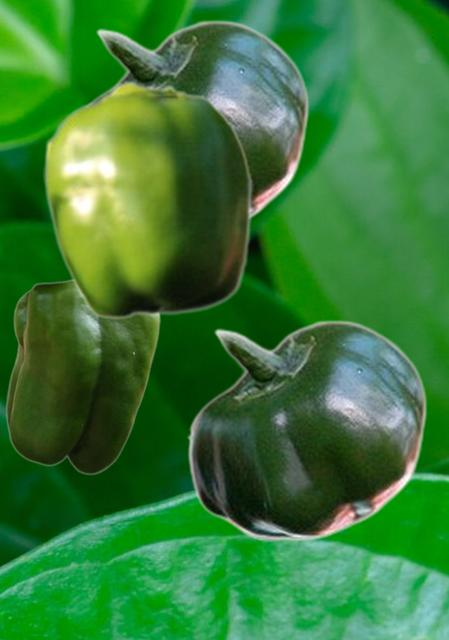bell_pepper: (186, 319, 426, 540), (43, 80, 252, 319), (83, 19, 308, 218), (5, 279, 160, 474)
